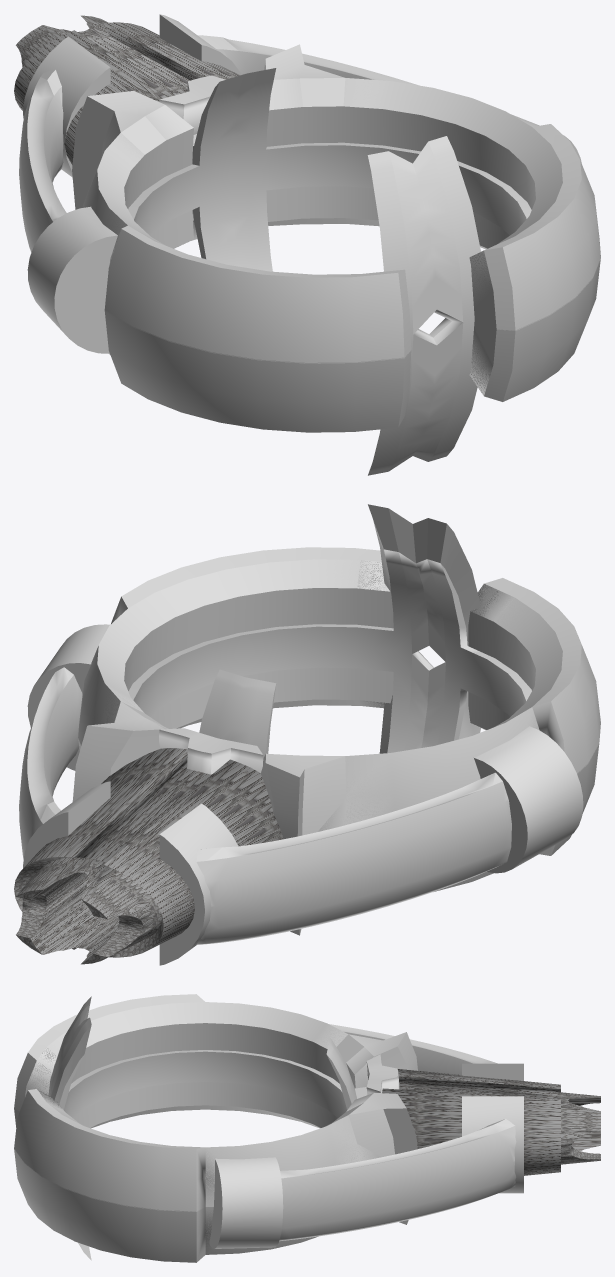
File: ship3.fbx
3 renders of one model, top to bottom at view 1: azimuth 30°, elevation 25°; view 2: azimuth 150°, elevation 25°; view 3: azimuth 270°, elevation 25°, orthographic. The views are drawn at different scales.
Parts seen in each view (by area): view 1: Ship, ContainmentRing, SupportStrut, Barrel, ContainmentRingGlow, SupportStrutGlow; view 2: Ship, SupportStrut, ContainmentRing, Barrel, SupportStrutGlow, ContainmentRingGlow; view 3: Ship, SupportStrut, ContainmentRing, Barrel, SupportStrutGlow, ContainmentRingGlow.
Part boxes in pixels (x1=…): Ship: x1=72, y1=44, x2=600, y2=432; ContainmentRing: x1=128, y1=68, x2=531, y2=475; SupportStrut: x1=19, y1=14, x2=581, y2=353; Barrel: x1=14, y1=15, x2=239, y2=164; ContainmentRingGlow: x1=97, y1=78, x2=561, y2=242; SupportStrutGlow: x1=27, y1=37, x2=419, y2=221; Ship: x1=72, y1=547, x2=600, y2=935; SupportStrut: x1=19, y1=624, x2=583, y2=965; ContainmentRing: x1=128, y1=504, x2=531, y2=774; Barrel: x1=14, y1=748, x2=283, y2=964; SupportStrutGlow: x1=27, y1=667, x2=502, y2=860; ContainmentRingGlow: x1=98, y1=559, x2=561, y2=726; Ship: x1=14, y1=994, x2=417, y2=1262; SupportStrut: x1=209, y1=1032, x2=523, y2=1248; ContainmentRing: x1=48, y1=996, x2=399, y2=1260; Barrel: x1=382, y1=1069, x2=600, y2=1175; SupportStrutGlow: x1=280, y1=1024, x2=509, y2=1178; ContainmentRingGlow: x1=49, y1=1002, x2=363, y2=1122.
Bounding box in the file's own units: 174 × 101 × 227.
